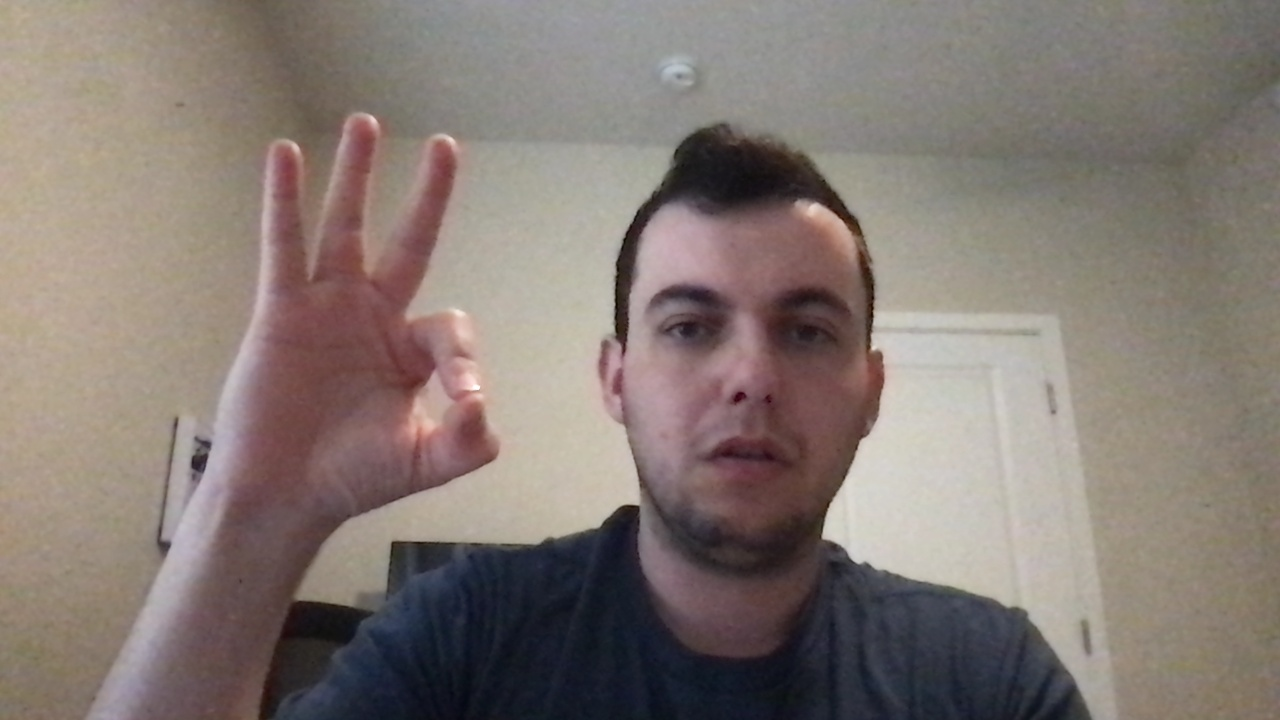f: (170, 97, 544, 512)
